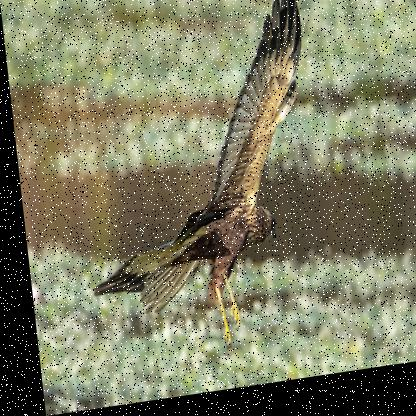Burung: (60, 0, 328, 373)
